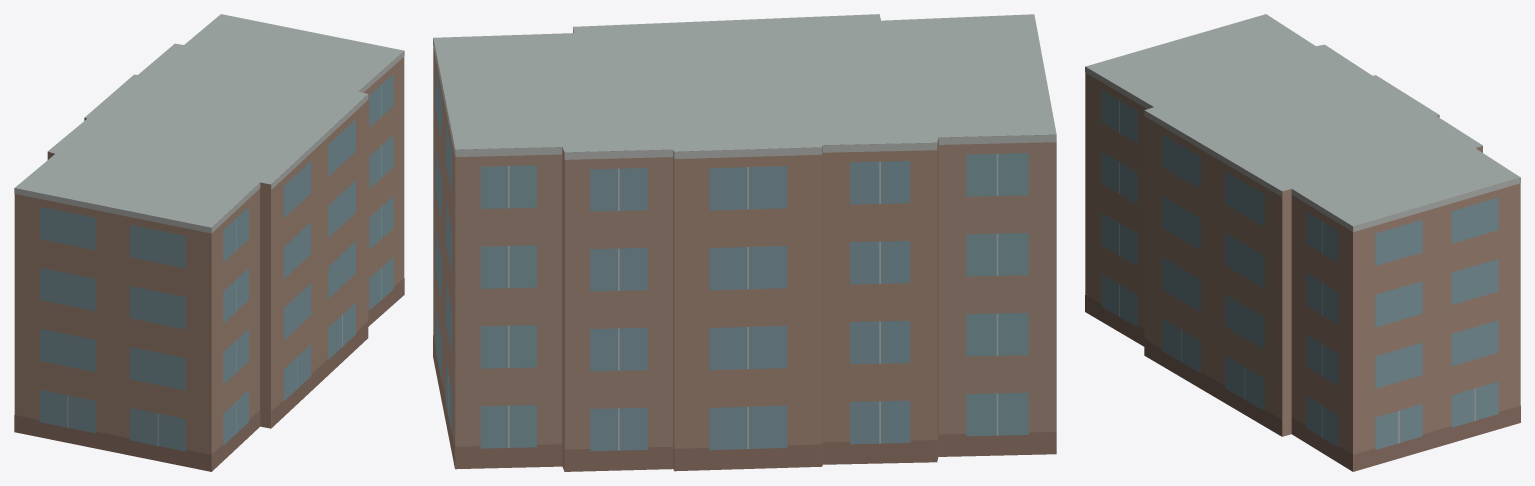
File: survey-upis-32530182.glb
The picture shows the model from 3 angles, left to right: view 1: azimuth 30°, elevation 25°; view 2: azimuth 150°, elevation 25°; view 3: azimuth 270°, elevation 25°; orthographic projection. The views are drawn at different scales.
Parts seen in each view (by area): view 1: survey-upis-32530182.tmp; view 2: survey-upis-32530182.tmp; view 3: survey-upis-32530182.tmp.
Boxes of the visible parts, x1,y1,x2,y2 form: survey-upis-32530182.tmp: (14,14,404,471); survey-upis-32530182.tmp: (433,14,1056,471); survey-upis-32530182.tmp: (1085,14,1520,471).
Size of the model in its own units: 19.13 by 10.3 by 16.57.
